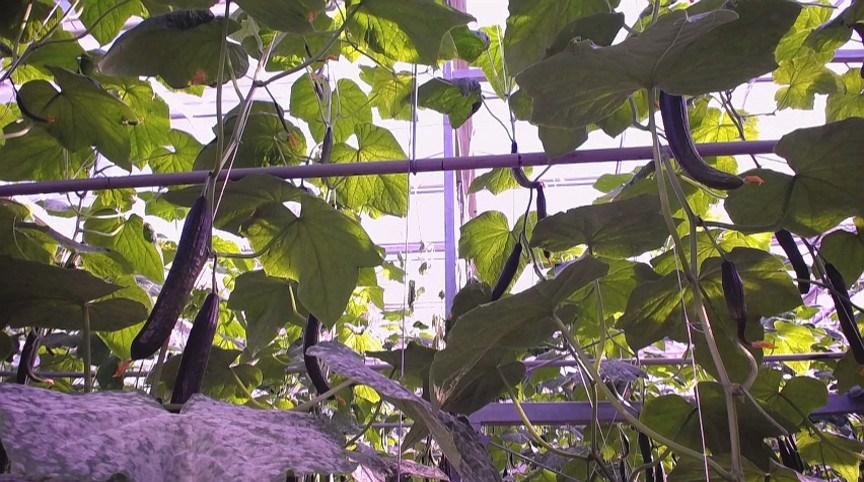cucumber: (131, 197, 213, 361), (659, 91, 745, 189), (169, 294, 221, 405), (824, 264, 864, 362), (302, 313, 337, 400), (775, 228, 811, 297), (489, 244, 522, 303)
